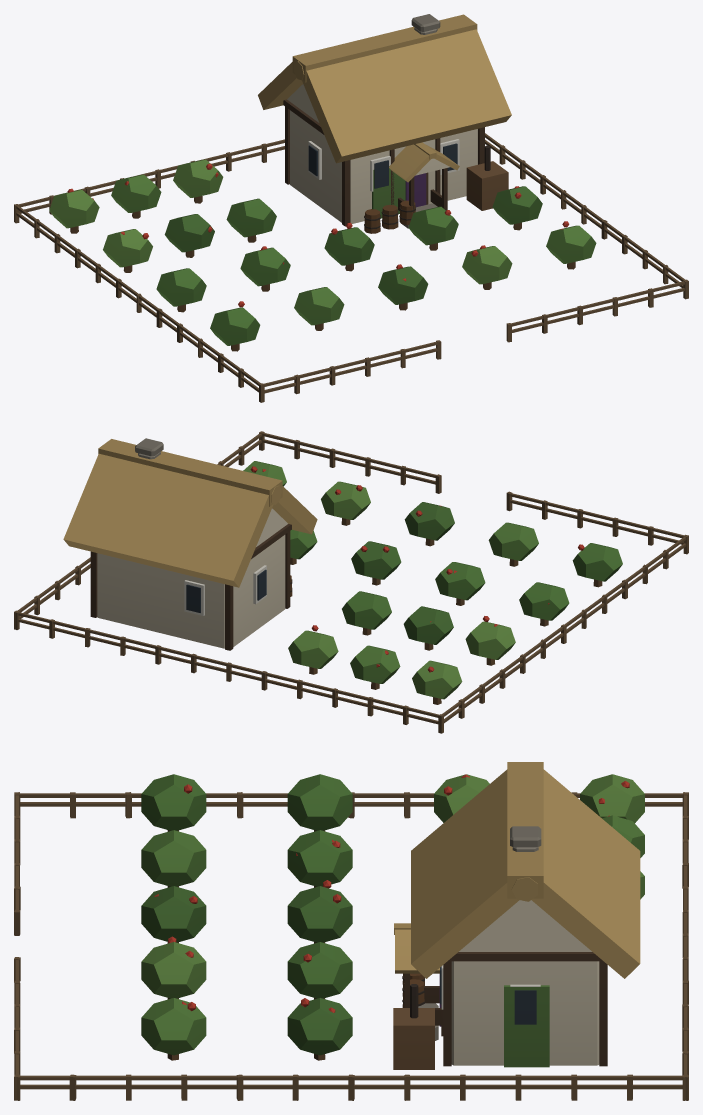
The model's file is orchard.glb.
3 renders of one model, top to bottom at view 1: azimuth 30°, elevation 25°; view 2: azimuth 150°, elevation 25°; view 3: azimuth 270°, elevation 25°, orthographic. The views are drawn at different scales.
Visible parts, largest first — view 1: orchard_model; view 2: orchard_model; view 3: orchard_model.
Boxes of the visible parts, box(x1,y1,x2,y2) form: orchard_model: box(14, 14, 688, 402); orchard_model: box(14, 431, 688, 733); orchard_model: box(14, 762, 688, 1100).
Size of the model in its own units: 1.94 by 0.7129 by 1.94.
